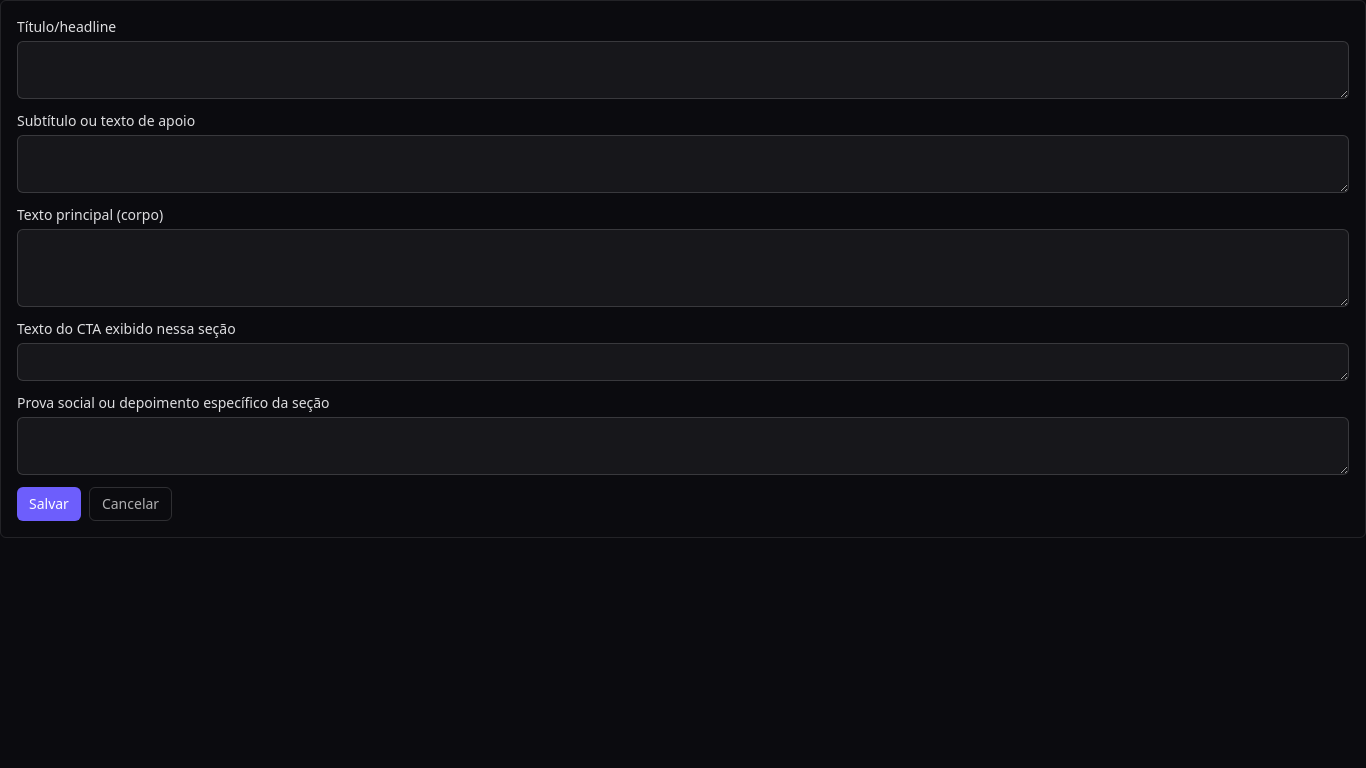
Test: SectionEditForm › shows a pending state while the action is running
What coordinates should you click on to do the following:
click the button "Salvar"
I would click on:
 (49, 504)
Its box is [17,487,81,521].
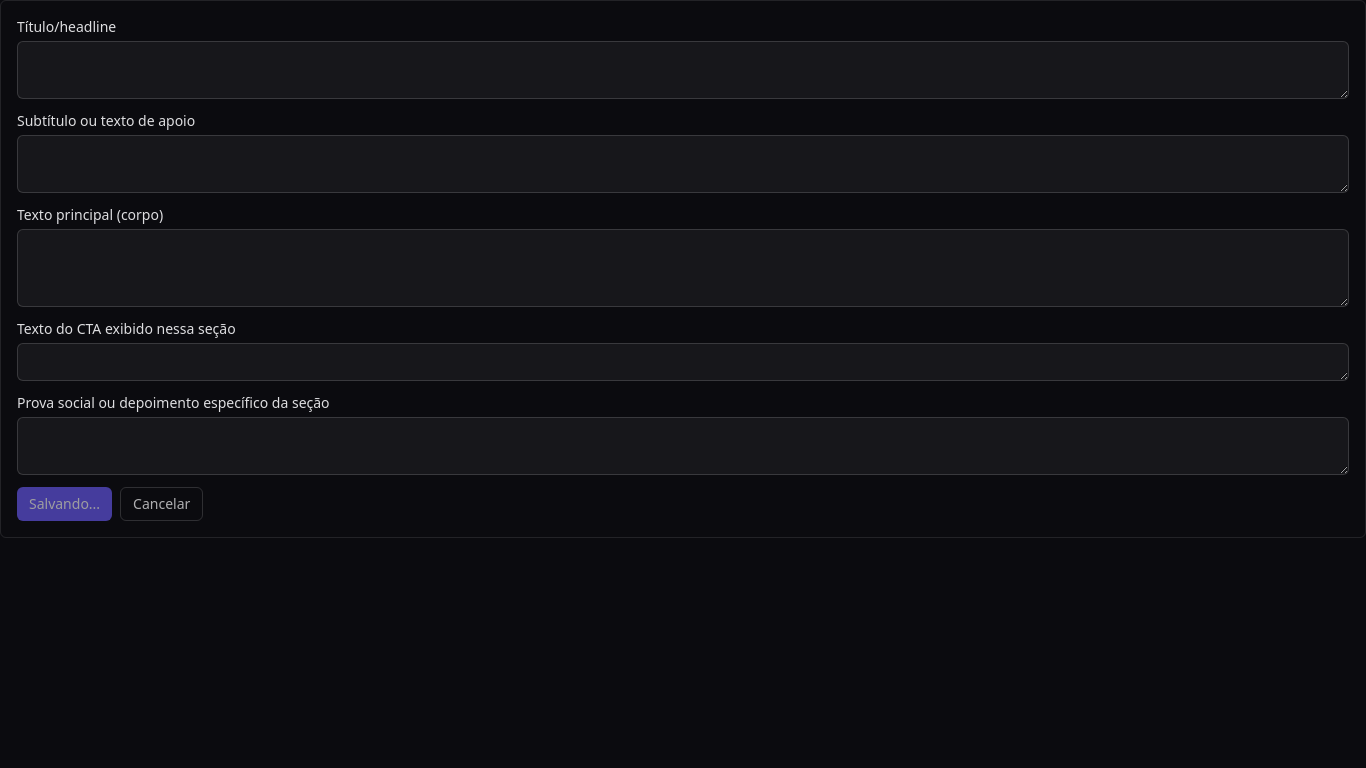
Result: the button "Salvando..." is disabled at [17,487,112,521]
